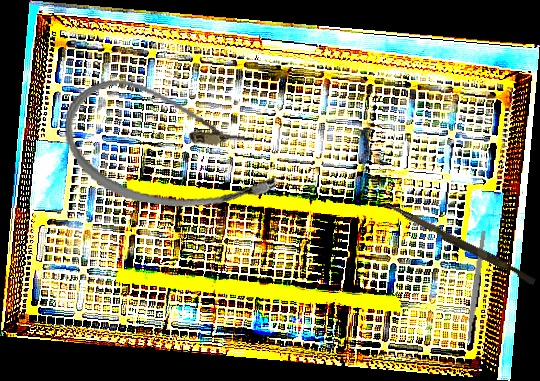Cannula: (56, 72, 288, 221)
Pusher: (382, 201, 538, 286)
Scalpel Handle: (465, 230, 487, 342)
